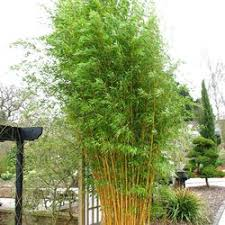bamboo: (58, 1, 182, 225)
